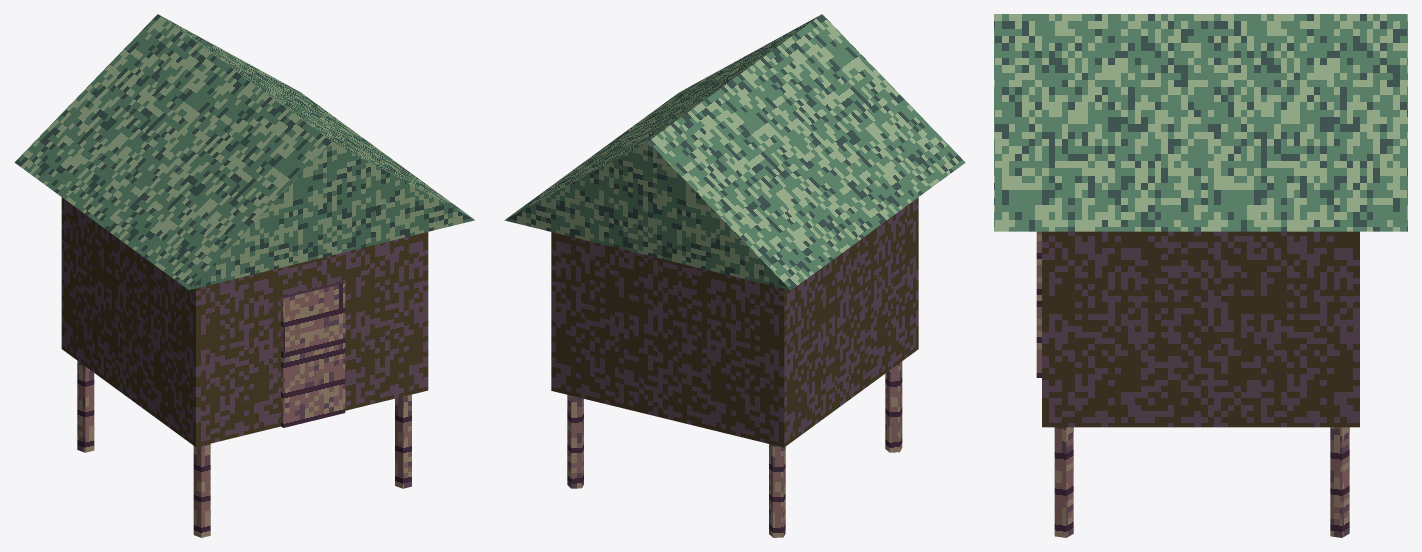
The model's file is aldeia_sssar_cabana_2.glb.
The picture shows the model from 3 angles, left to right: view 1: azimuth 30°, elevation 25°; view 2: azimuth 150°, elevation 25°; view 3: azimuth 270°, elevation 25°; orthographic projection. The views are drawn at different scales.
Parts seen in each view (by area): view 1: aldeia_sssar_cabana_2; view 2: aldeia_sssar_cabana_2; view 3: aldeia_sssar_cabana_2.
Boxes of the visible parts, x1,y1,x2,y2 form: aldeia_sssar_cabana_2: [14, 14, 474, 537]; aldeia_sssar_cabana_2: [504, 14, 965, 537]; aldeia_sssar_cabana_2: [994, 14, 1407, 537].
Bounding box in the file's own units: 3.7 × 4.8 × 3.9.
3 materials, 3 textured.
